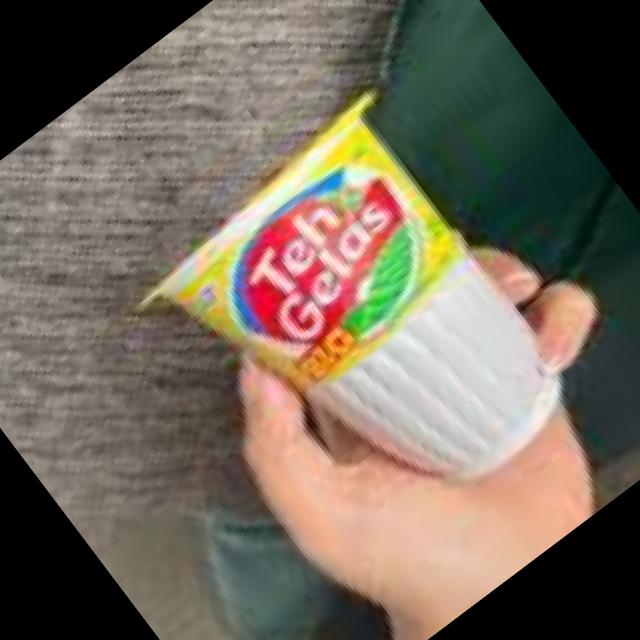GelasPlastik: (110, 81, 604, 586)
